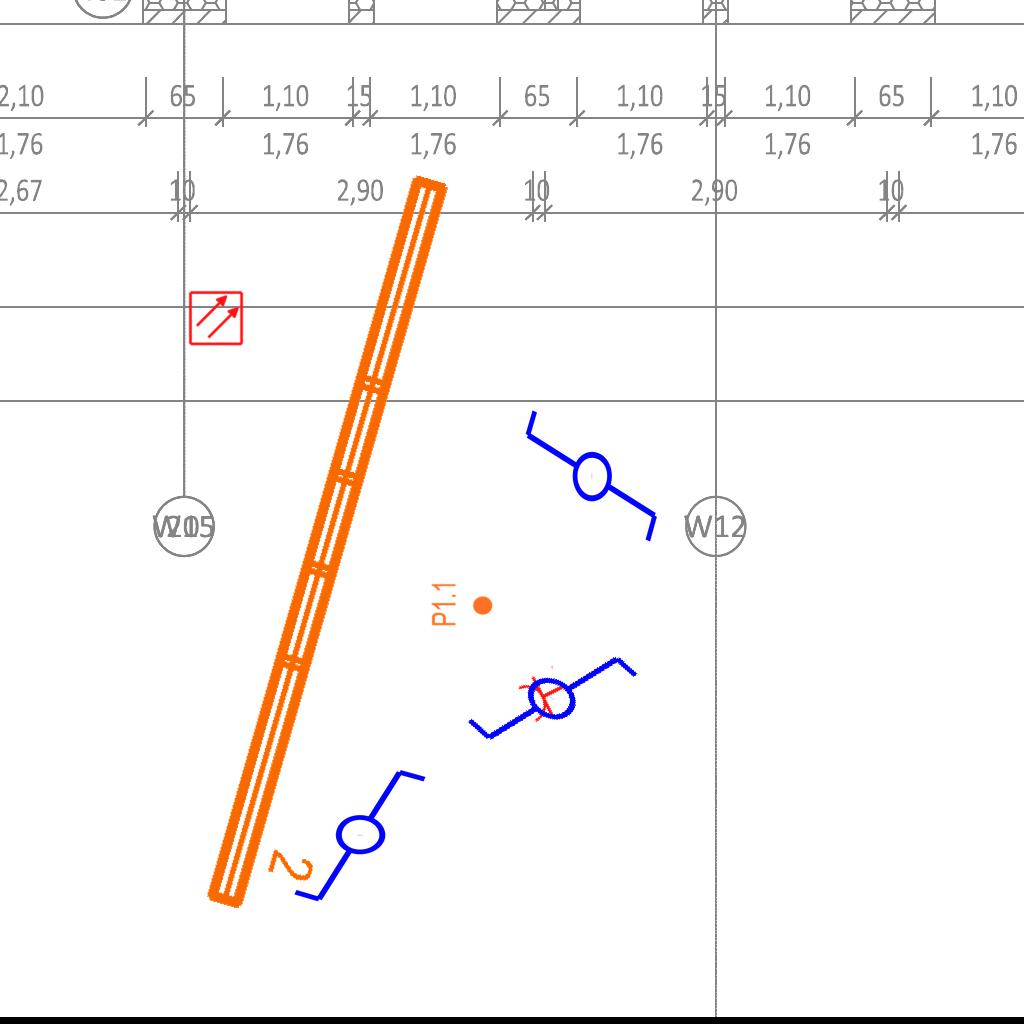Ambulanz_Pendelleuchte_LED: (191, 160, 513, 936)
Downlight_LED_Einbauleuchten_Flur: (430, 581, 494, 627)
RMO_Rauchmelder_optischer: (188, 290, 244, 346)
Schukosteckdose_einfach: (513, 662, 576, 728)
Wechselschalter: (443, 593, 648, 793), (518, 406, 662, 563), (290, 765, 447, 909)
